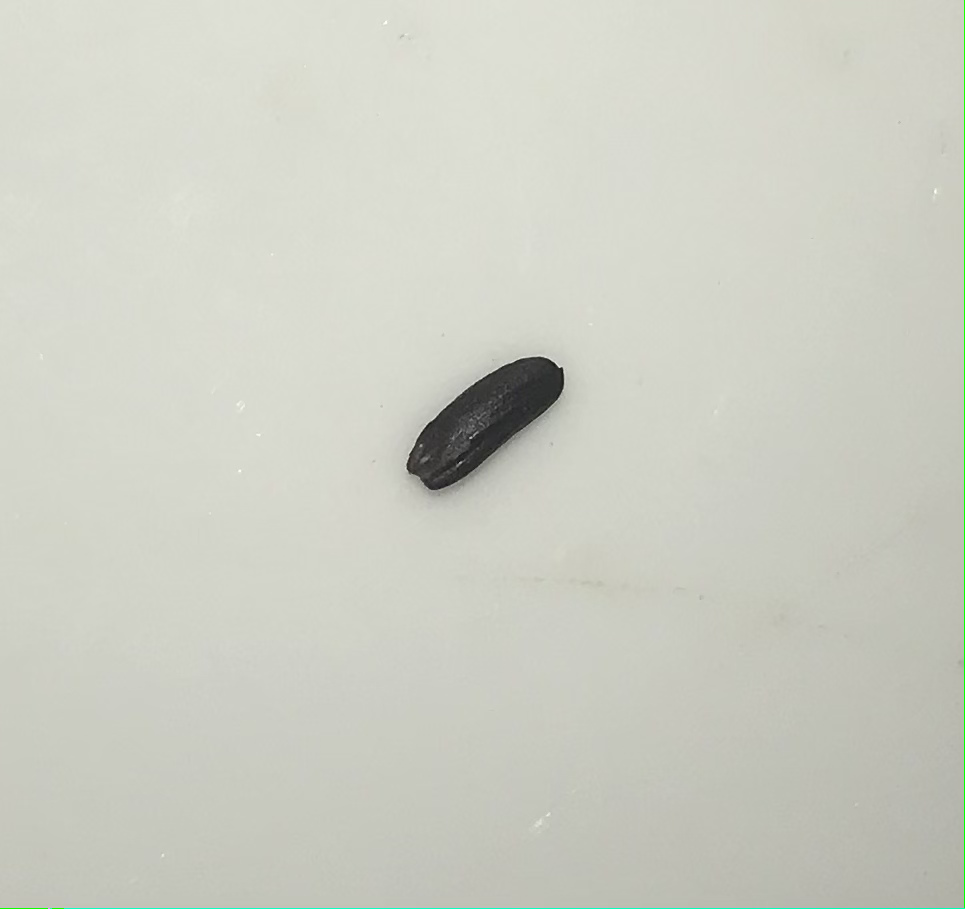Gao Nep Cam: (399, 341, 576, 495)
